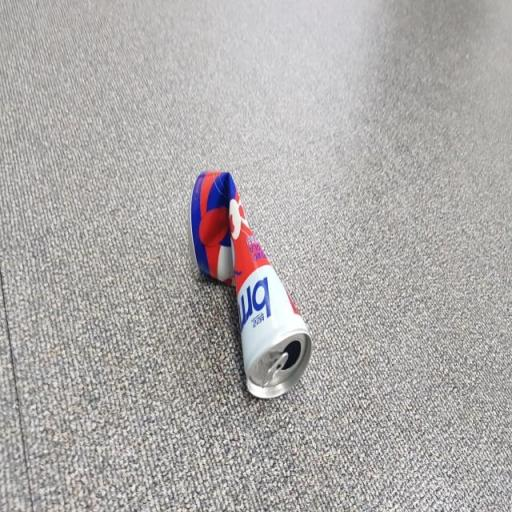metal: (171, 137, 338, 431)
